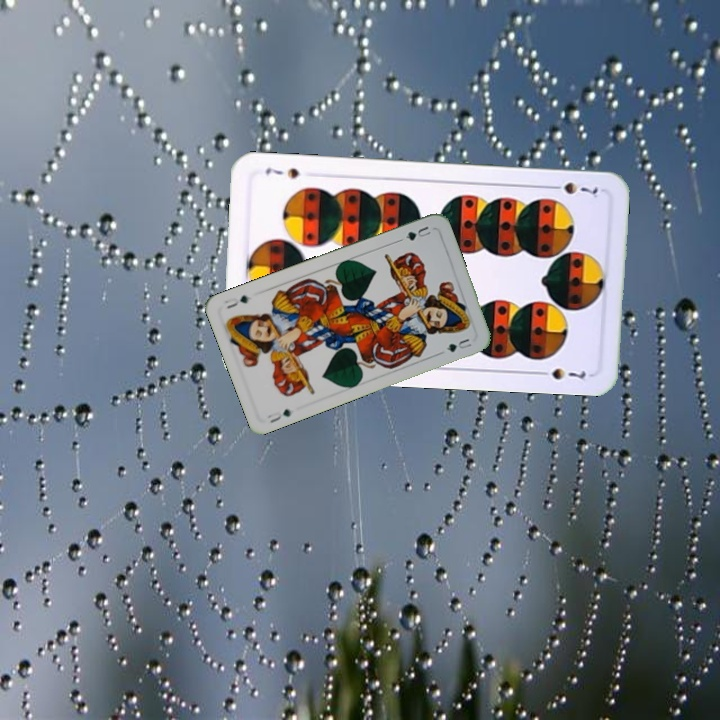GU: (401, 222, 434, 243), (263, 405, 294, 425)
S7: (545, 178, 602, 200)
